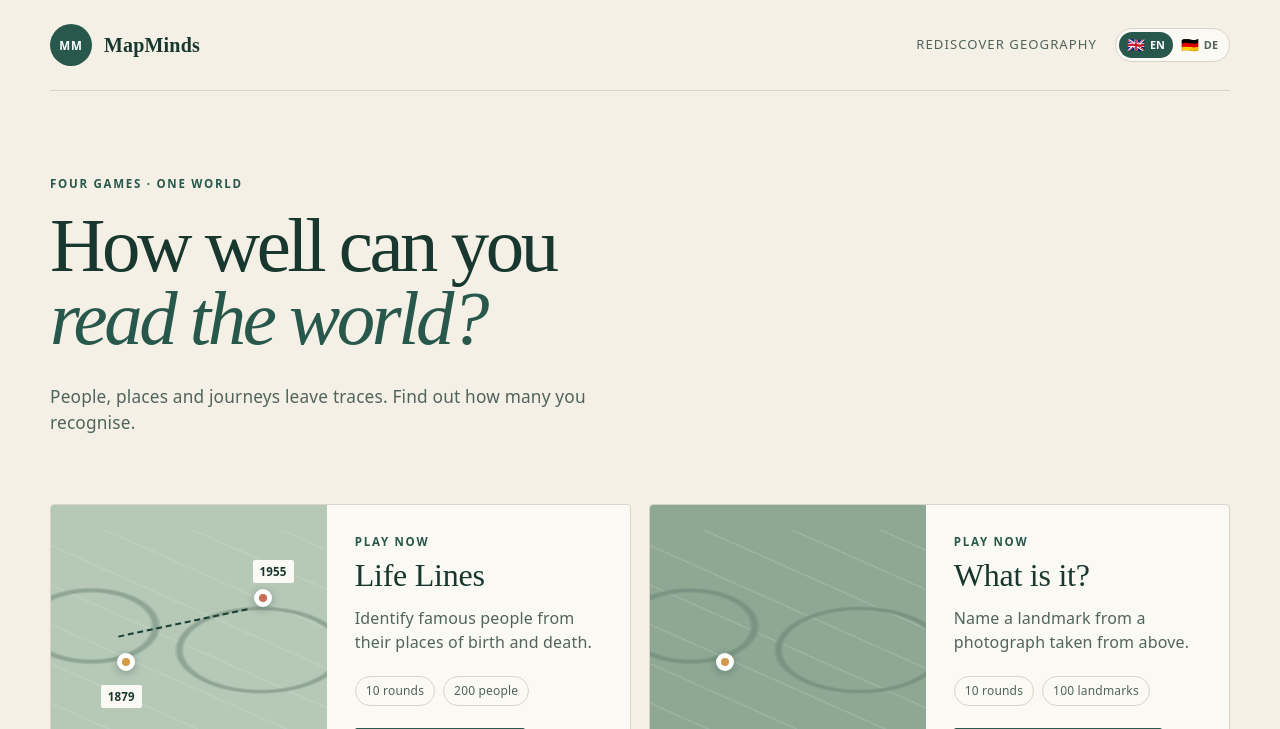
MapMinds hub › switches the complete interface to German and remembers the choice
Click the button with aria-label "Deutsch". click: (1199, 45)
box: [1173,32,1226,58]
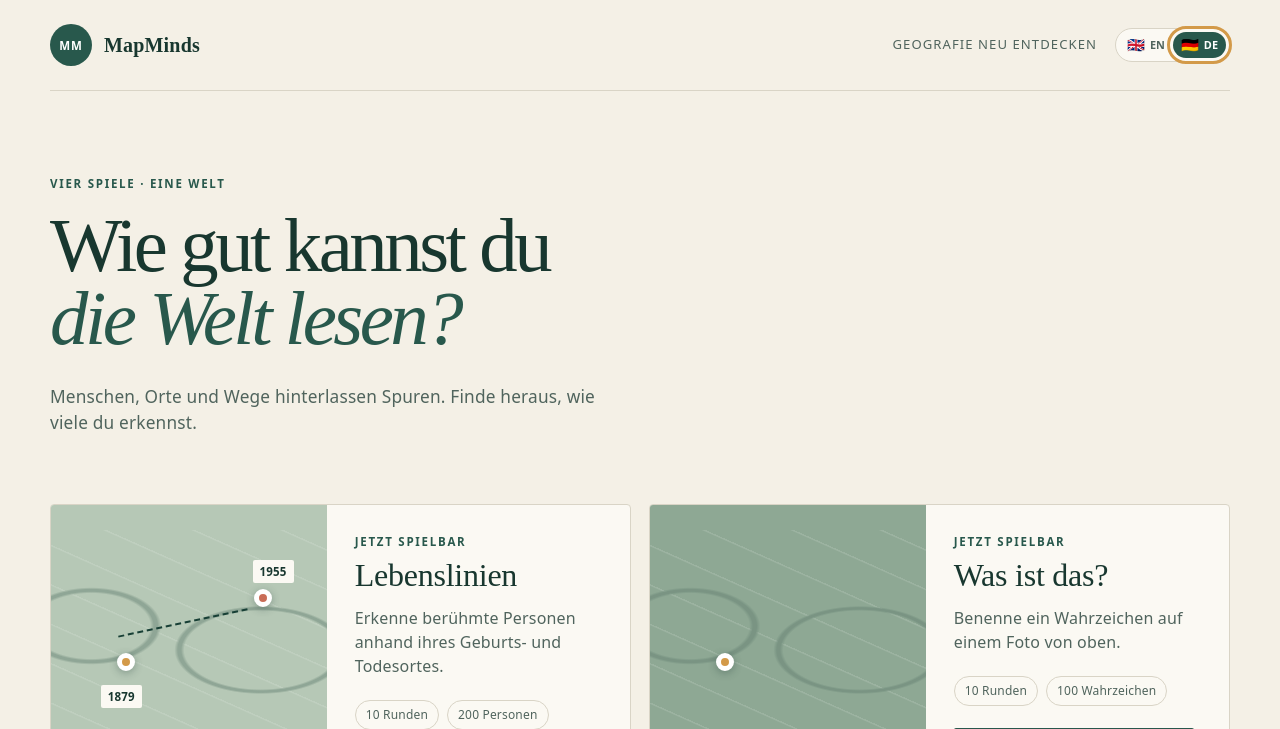
Expected: the heading "Lebenslinien" is shown, [355,557,517,593]
